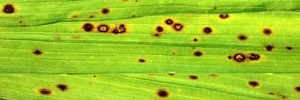RiceBrownSpot: (77, 5, 279, 43), (190, 46, 275, 65), (150, 71, 201, 100), (31, 82, 76, 100), (1, 2, 23, 18)
